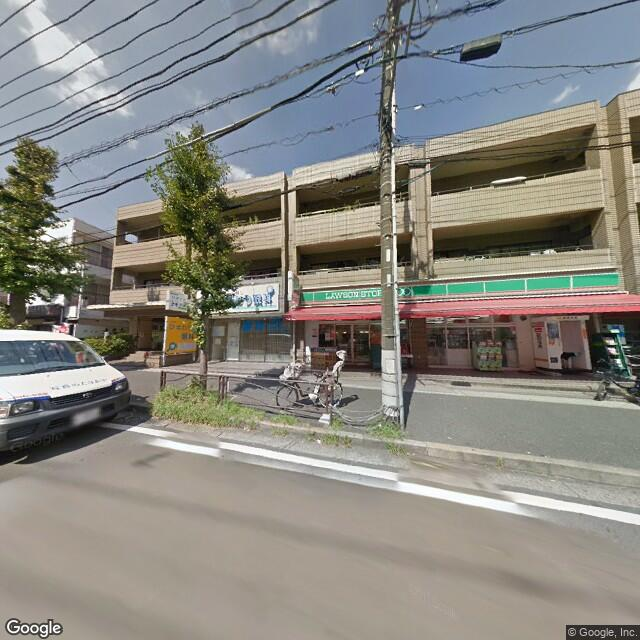lawson: (302, 269, 621, 305)
